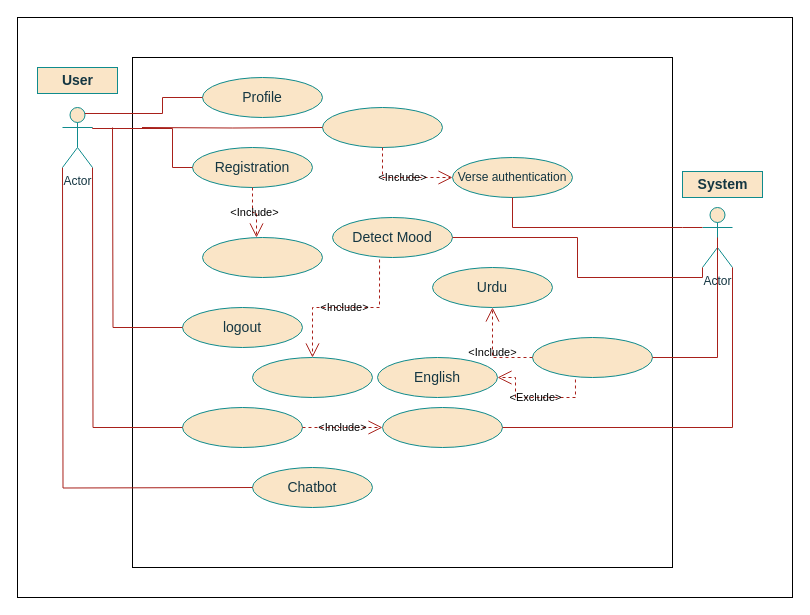
Some shapes in this 810 by 615 pixel diagram are drawn without their labels. Here are the shapes that lost their labels. From the top down, the box of each, then its label:
(322, 106, 442, 148): Give content
(202, 236, 322, 278): Login
(252, 356, 372, 398): Recommend verses
(532, 336, 652, 378): Translate
(182, 406, 302, 448): Quizess
(382, 406, 502, 448): Calculate score
